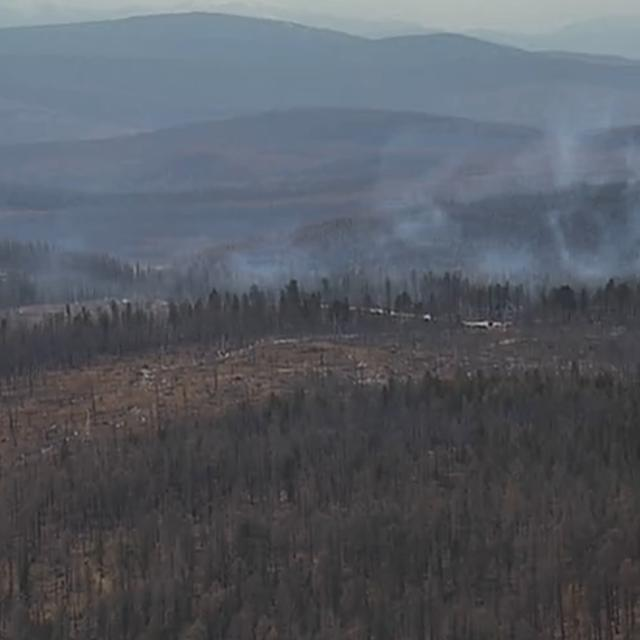Smoke: (0, 87, 640, 321)
